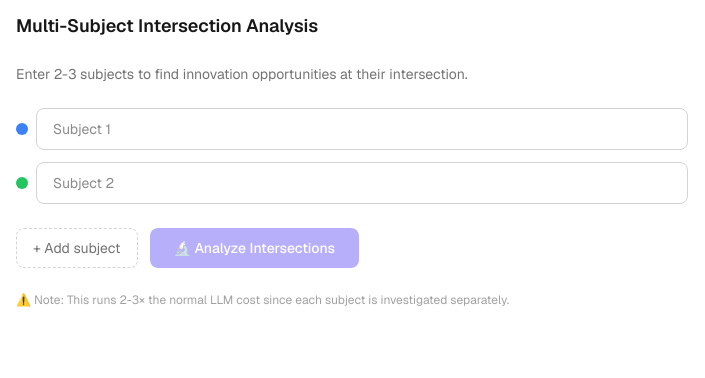
Test: IntersectionAnalysis › removes a subject when 3 exist
Click the button "+ Add subject" at (77, 248), box [16,228,138,268]
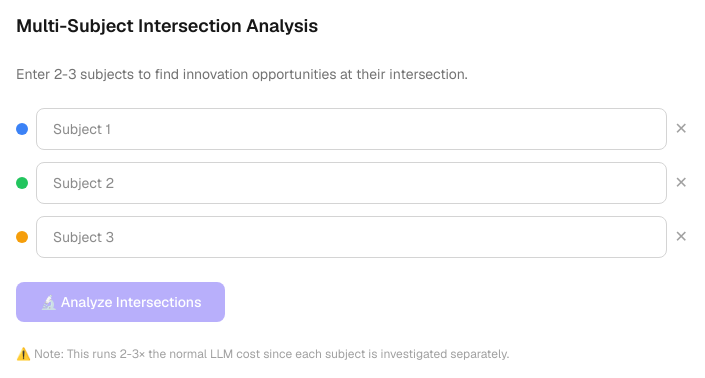
// There are remove buttons for each of the 3 subjects
Click the 1st button "✕" at (681, 129), box [675,117,688,141]
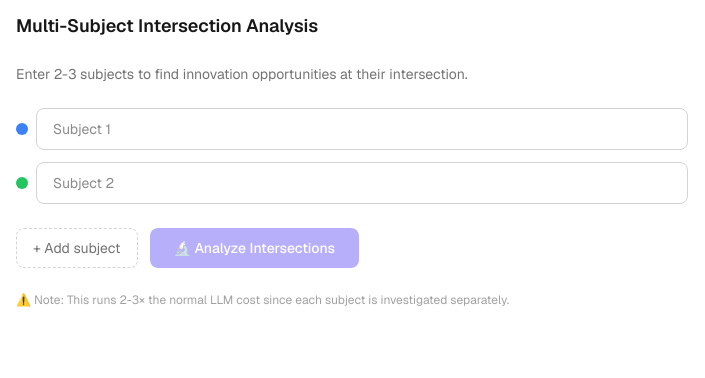
Expected: the number of fields with placeholder "Subject 1" is 2, [36,108,688,150]; [36,162,688,204]
